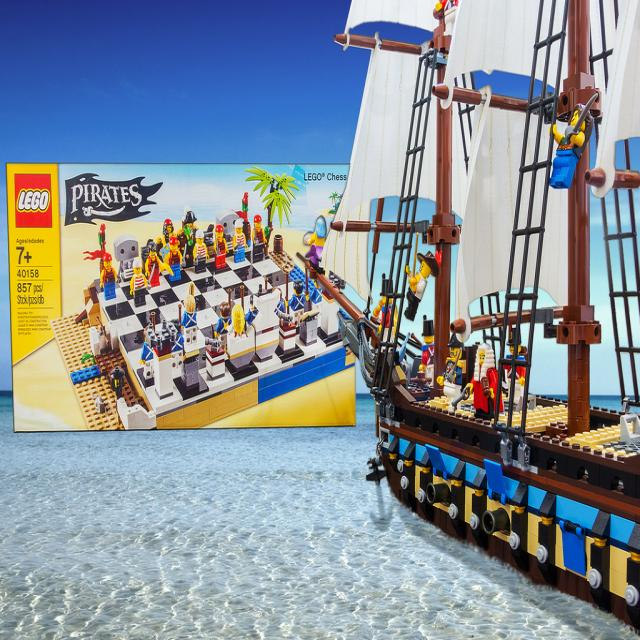Boat: (368, 0, 639, 639)
